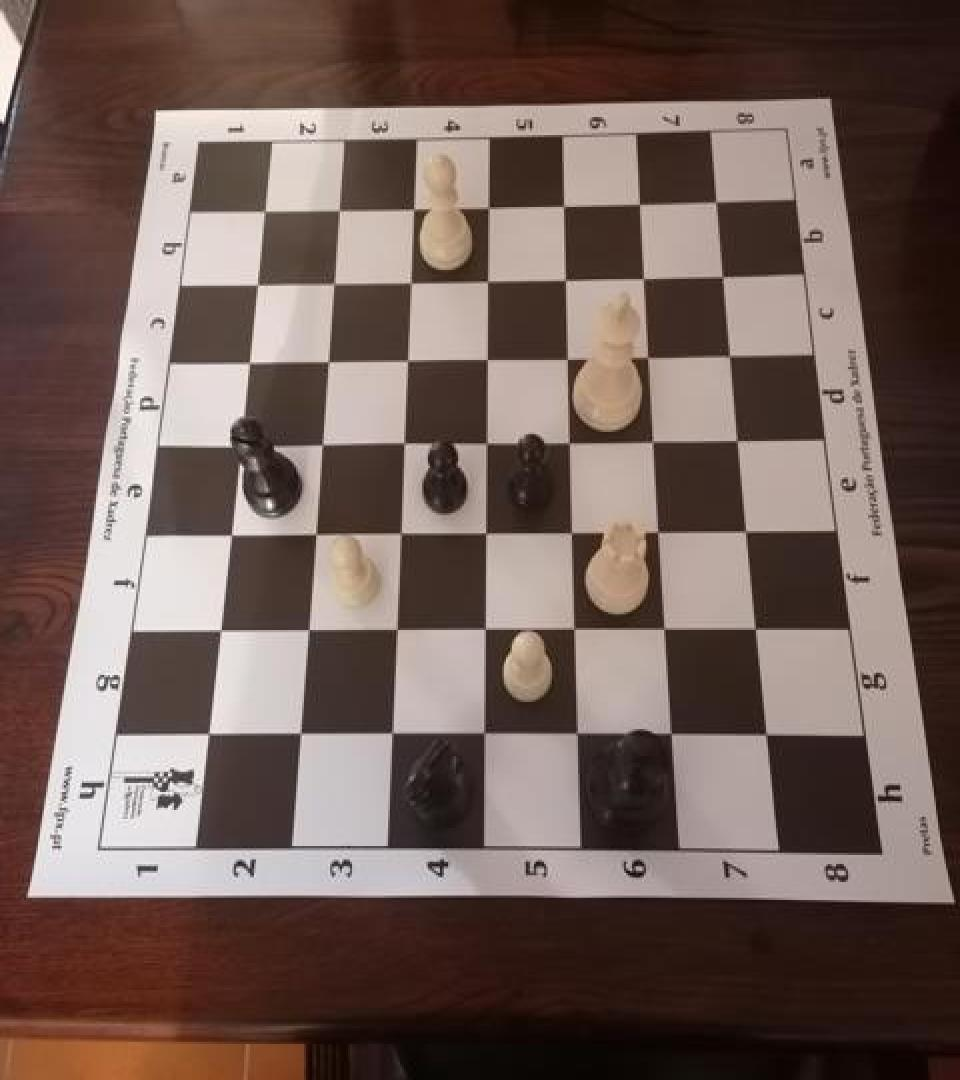xcorner: (702, 182, 734, 218), (625, 184, 657, 220), (549, 184, 581, 220), (397, 187, 429, 223), (321, 189, 353, 225), (246, 190, 278, 226), (709, 256, 741, 292), (629, 258, 661, 294), (551, 259, 583, 295), (472, 260, 504, 296), (394, 261, 426, 297), (316, 262, 348, 298), (238, 263, 270, 299), (716, 335, 748, 371), (634, 336, 666, 372), (553, 338, 585, 374), (471, 338, 503, 374), (391, 340, 423, 376), (310, 341, 342, 377), (230, 342, 262, 378), (724, 421, 756, 457), (640, 422, 672, 458), (555, 422, 587, 458), (471, 423, 503, 459), (387, 424, 419, 460), (304, 424, 336, 460), (221, 425, 253, 461), (733, 512, 765, 548), (645, 513, 677, 549), (557, 513, 589, 549), (470, 514, 502, 550), (383, 514, 415, 550), (297, 515, 329, 551), (211, 515, 243, 551), (743, 610, 775, 646), (651, 611, 683, 647), (560, 611, 592, 647), (470, 611, 502, 647), (380, 612, 412, 648), (290, 612, 322, 648), (201, 612, 233, 648), (753, 716, 785, 752), (658, 716, 690, 752), (563, 716, 595, 752), (469, 716, 501, 752), (375, 716, 407, 752), (282, 716, 314, 752), (190, 716, 222, 752), (472, 186, 504, 221)
